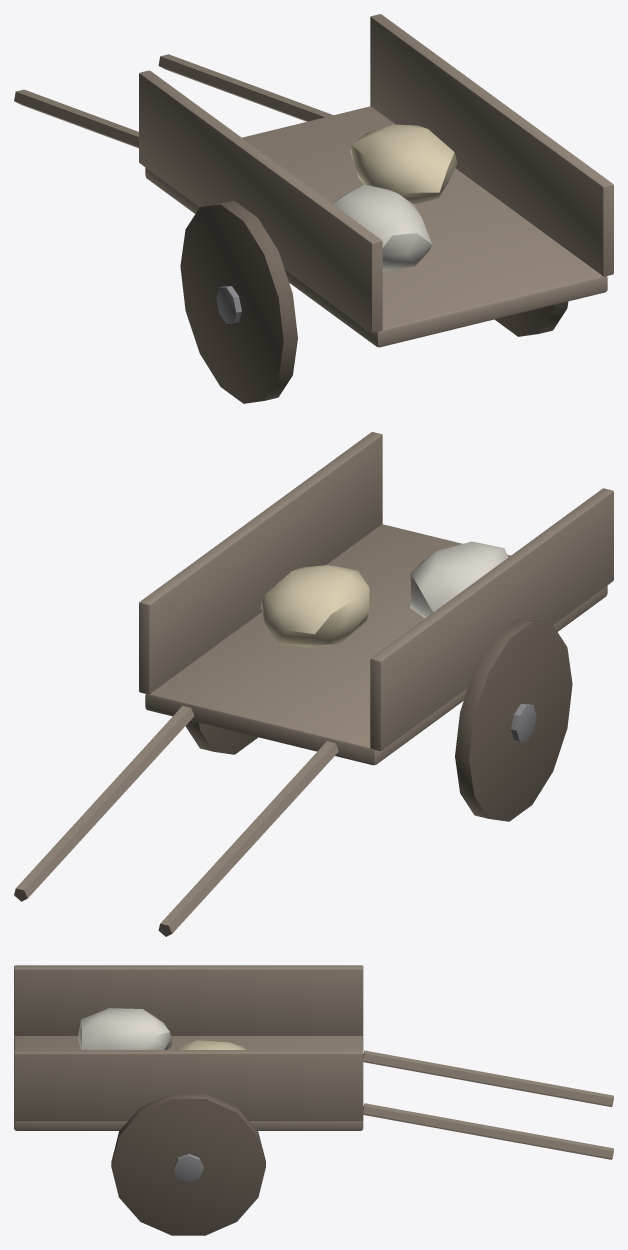
The model's file is cart.gltf.
3 views of the same model, one above another, from view 1: azimuth 30°, elevation 25°; view 2: azimuth 150°, elevation 25°; view 3: azimuth 270°, elevation 25° (orthographic). The views are drawn at different scales.
Visible parts, largest first — view 1: Body; view 2: Body; view 3: Body.
Boxes of the visible parts, x1,y1,x2,y2 form: Body: (14,14,613,403); Body: (14,432,613,936); Body: (14,965,613,1235).
Size of the model in its own units: 2.08 by 1.53 by 4.81.
